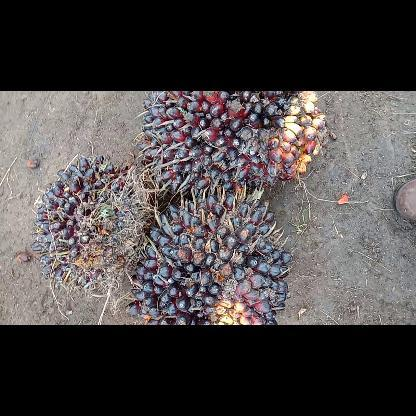TBS mentah: (121, 186, 295, 324), (133, 91, 331, 201), (28, 154, 152, 292)
